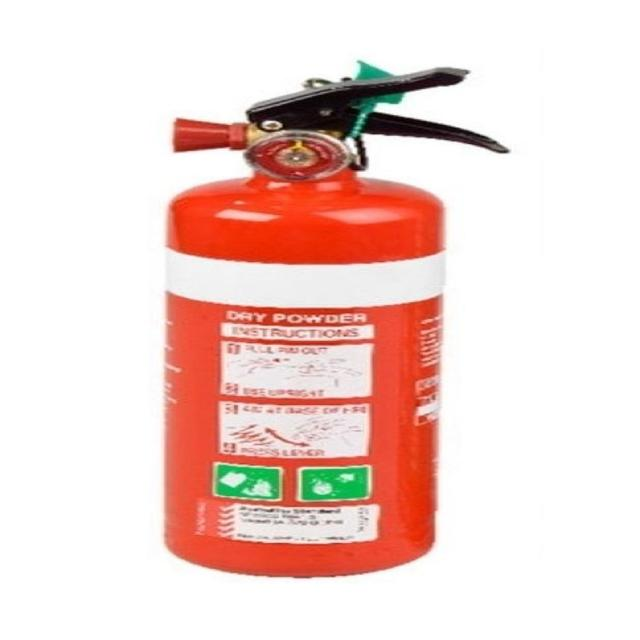fire_extinguisher: (137, 55, 523, 588)
